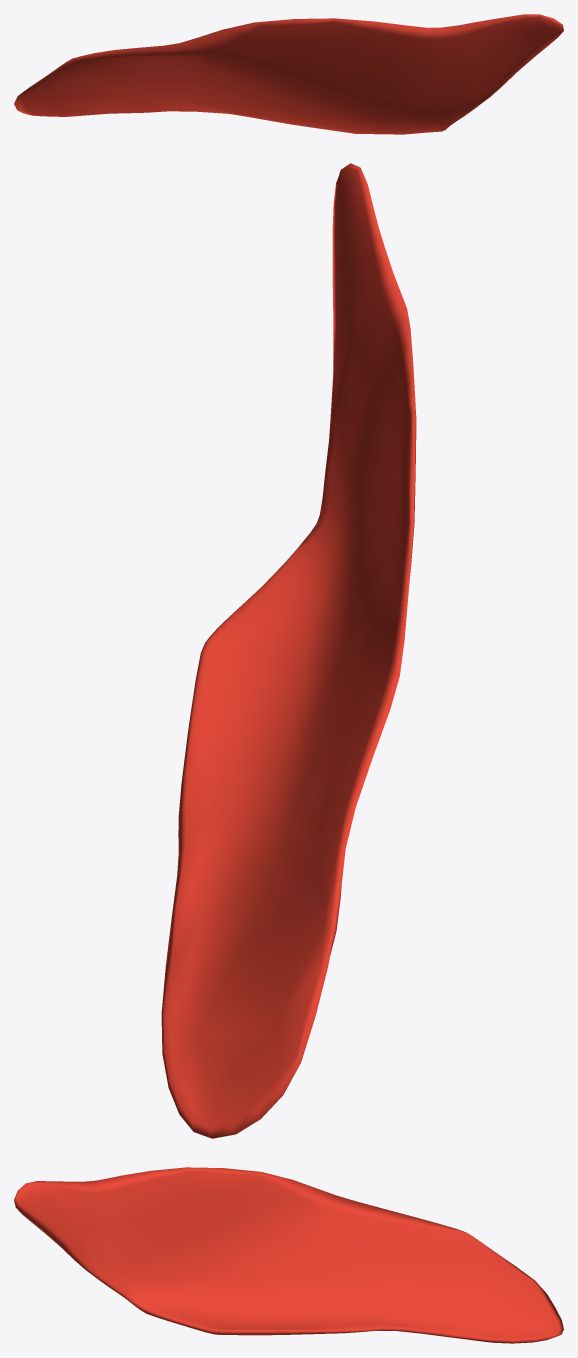
File: Adductor_magnus-Ischiatic_insertion.r_Generated_Mesh_From_X3D.8.glb
3 views of the same model, one above another, from view 1: azimuth 30°, elevation 25°; view 2: azimuth 150°, elevation 25°; view 3: azimuth 270°, elevation 25° (orthographic). The views are drawn at different scales.
Visible parts, largest first — view 1: Adductor_magnus-Ischiatic_insertion.r_Generated_Mesh_From_X3; view 2: Adductor_magnus-Ischiatic_insertion.r_Generated_Mesh_From_X3; view 3: Adductor_magnus-Ischiatic_insertion.r_Generated_Mesh_From_X3.
Boxes of the visible parts, <box> form: Adductor_magnus-Ischiatic_insertion.r_Generated_Mesh_From_X3: <box>14,14,563,134</box>; Adductor_magnus-Ischiatic_insertion.r_Generated_Mesh_From_X3: <box>161,163,416,1138</box>; Adductor_magnus-Ischiatic_insertion.r_Generated_Mesh_From_X3: <box>14,1167,563,1343</box>.
Size of the model in its own units: 0.0225 by 0.0215 by 0.0442.
